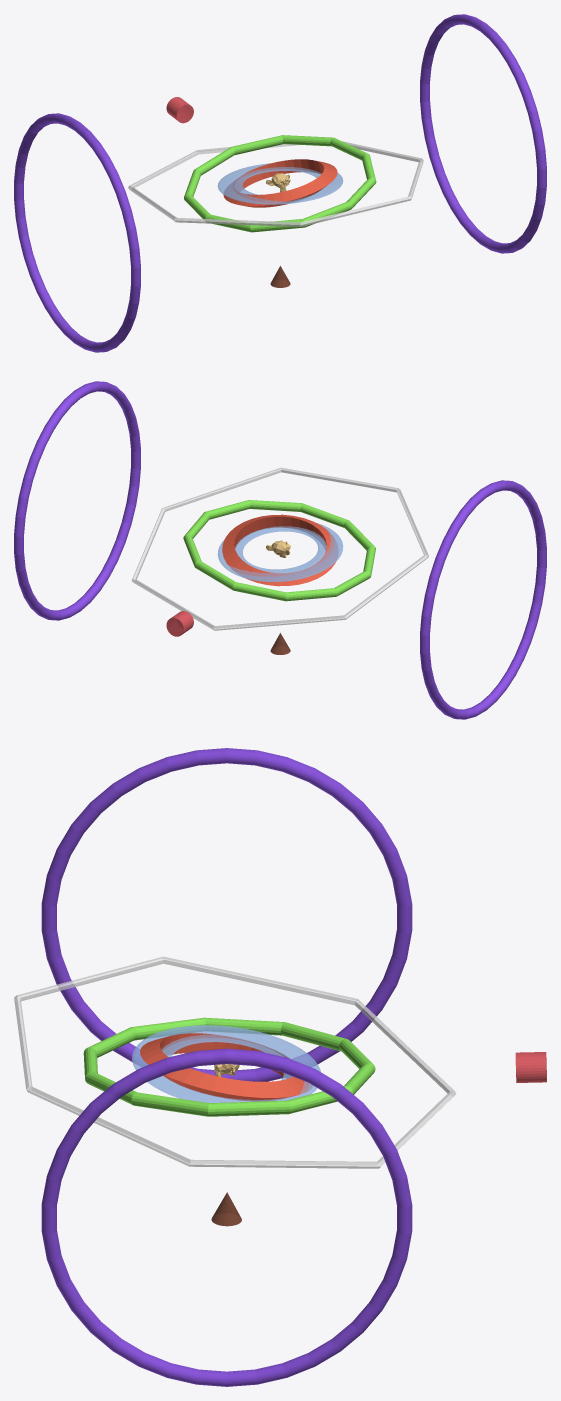
Rendered from portalThingy.glb.
The picture shows the model from 3 angles, top to bottom: view 1: azimuth 30°, elevation 25°; view 2: azimuth 150°, elevation 25°; view 3: azimuth 270°, elevation 25°; orthographic projection. The views are drawn at different scales.
Parts seen in each view (by area): view 1: Torus.006, Torus.005, Torus.002, Torus.004, Torus.003, Torus.001, Cylinder; view 2: Torus.006, Torus.005, Torus.002, Torus.003, Torus.004, Torus.001, Cylinder; view 3: Torus.005, Torus.006, Torus.002, Torus.003, Torus.004, Torus.001, Cylinder.
Part boxes in pixels (x1,y1,x2,y2): Torus.006: (14,113,140,352); Torus.005: (420,14,546,253); Torus.002: (184,135,376,232); Torus.004: (223,159,337,207); Torus.003: (128,141,423,226); Torus.001: (217,163,343,204); Cylinder: (166,97,193,123); Torus.006: (420,480,546,719); Torus.005: (14,381,140,620); Torus.002: (183,500,375,601); Torus.003: (131,467,428,630); Torus.004: (222,514,337,586); Torus.001: (217,523,343,581); Cylinder: (166,611,193,636); Torus.005: (41,1048,412,1386); Torus.006: (41,748,412,1081); Torus.002: (83,1017,375,1116); Torus.003: (14,956,456,1168); Torus.004: (140,1033,312,1100); Torus.001: (132,1025,320,1102); Cylinder: (515,1052,546,1082).
Size of the model in its own units: 47.57 by 24.33 by 34.89.
